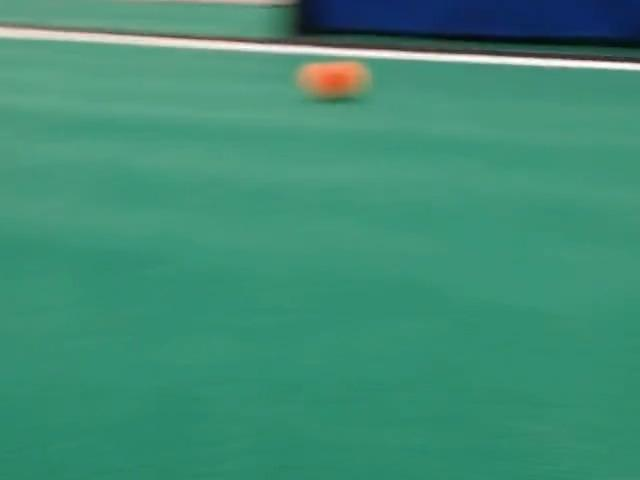Ball: (297, 61, 369, 99)
